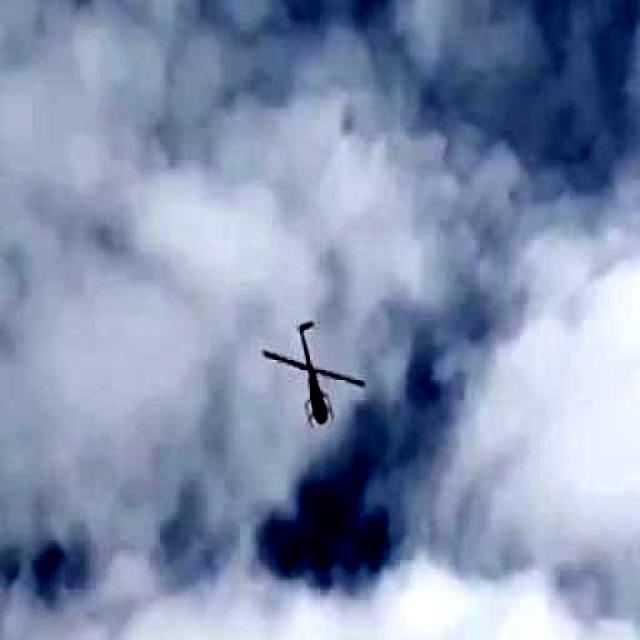drone: (238, 292, 384, 449)
